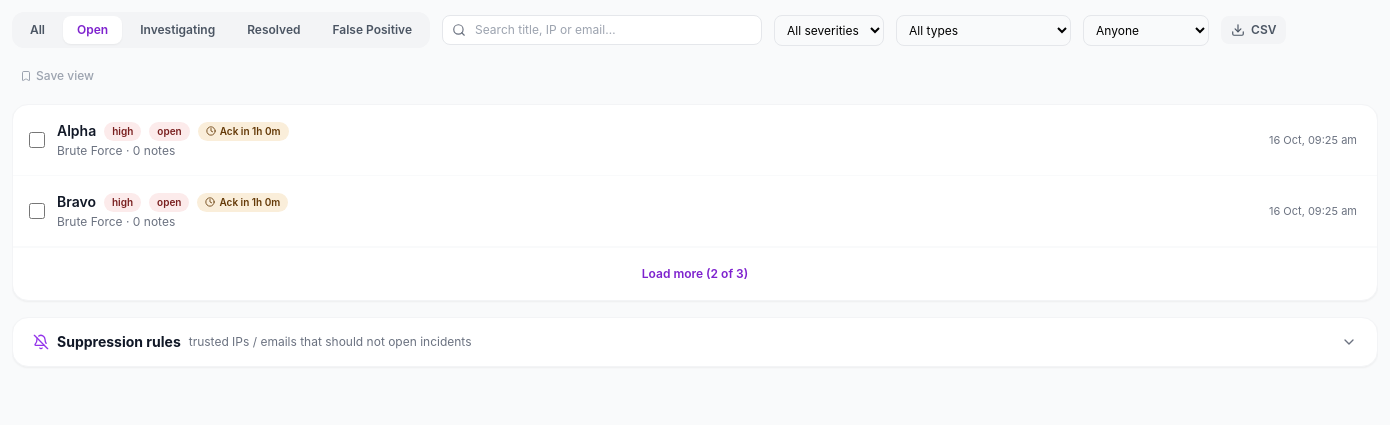
Test: IncidentsTab › keeps the list on screen when "Load more" fails, and retries just that page
The width and height of the screenshot is (1390, 425).
Expected: the text "Alpha" is shown, [57,121,96,141]
What coordinates should you click on to do the following:
click the button "Load more (2 of 3)"
I would click on:
 (695, 274)
Its box is [626,260,764,288].
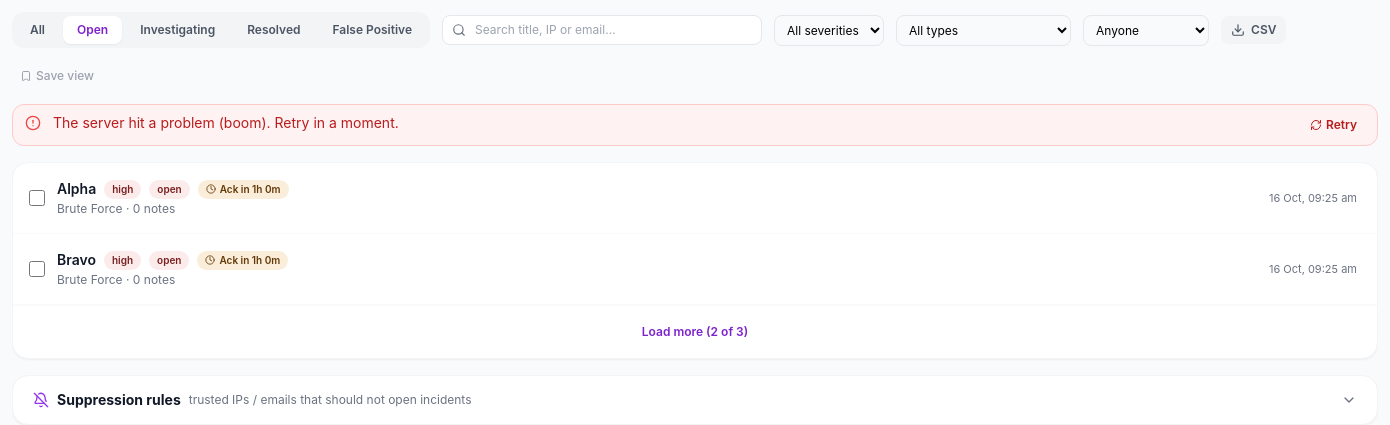
Expected: the text "Alpha" is shown, [57,179,96,199]
Now the message shows "boom", box [53,114,399,131]
Now the number of messages is 1, box [12,104,1378,146]
What coordinates should you click on to do the following:
click the button "Retry"
I would click on:
 (1334, 125)
Its box is [1302,113,1365,137].
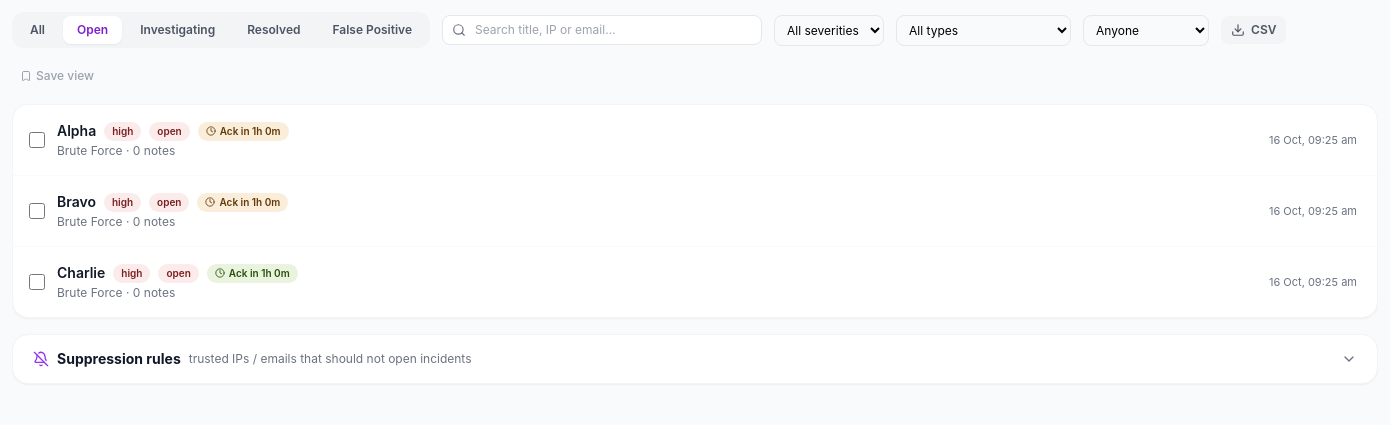
Now the text "Charlie" is shown, box [57,263,105,283]
Now the message "The server hit a problem (boom). Retry in a moment. Retry" is gone
